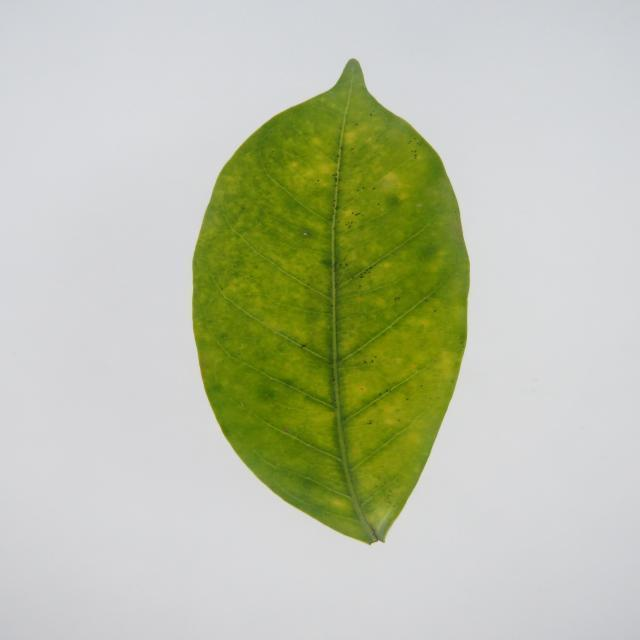DeficienciaNutricional-Nitrogeno: (193, 60, 468, 544)
